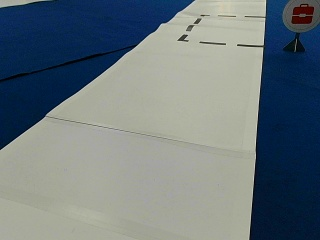company: (282, 0, 318, 31)
